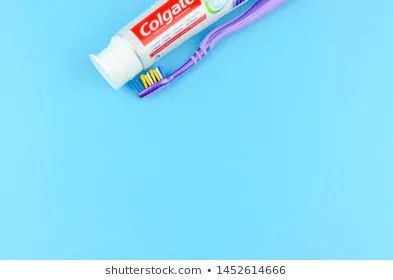toothbrush: (130, 21, 234, 102)
